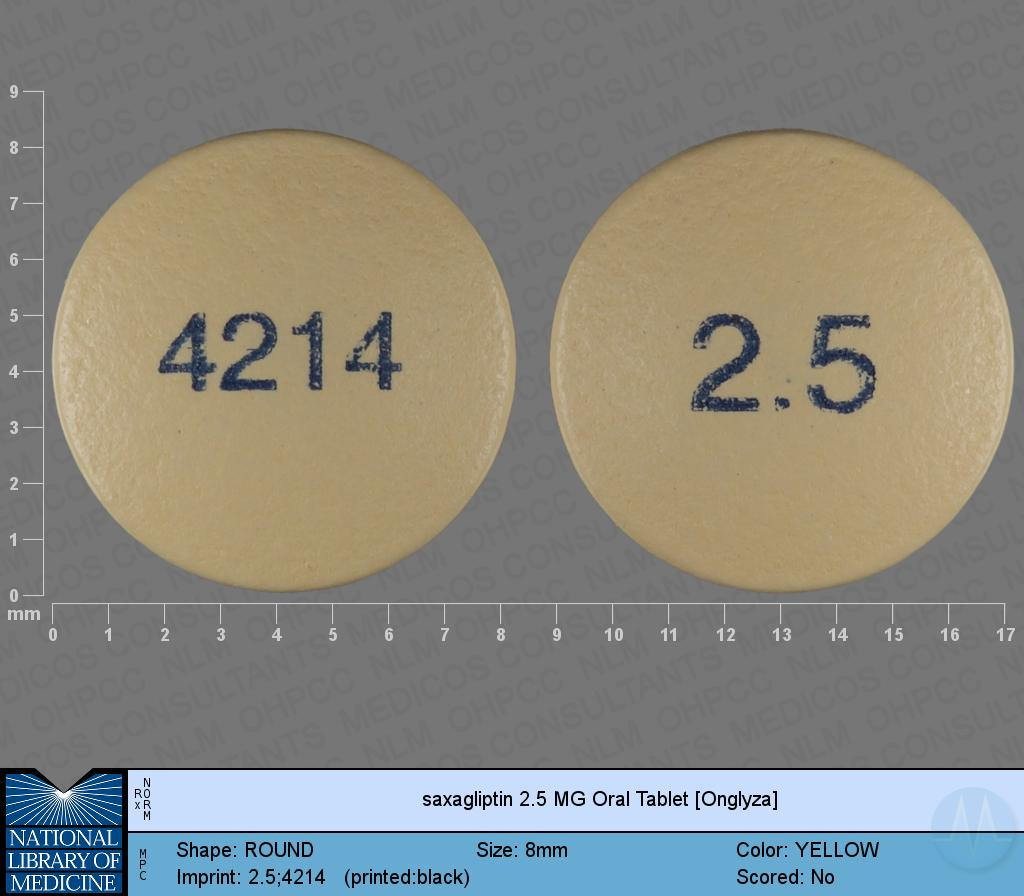Pill: (542, 118, 1024, 603), (47, 122, 528, 603)
